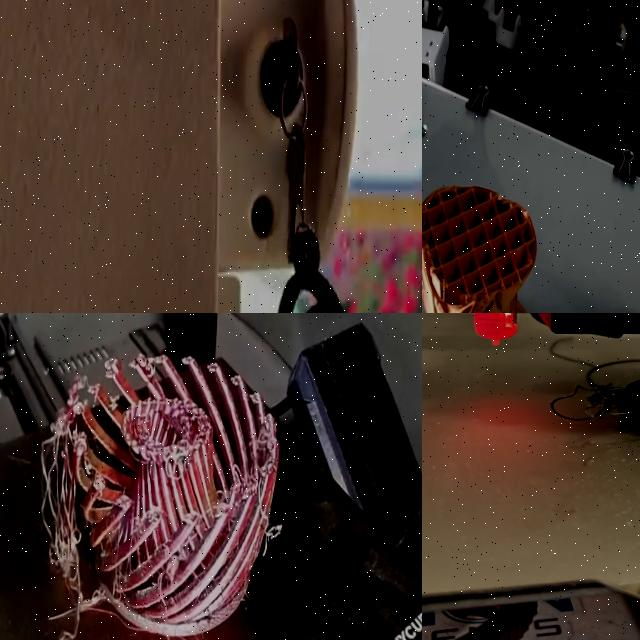spaghetti: (21, 406, 115, 640), (550, 359, 640, 433), (248, 471, 300, 547)
